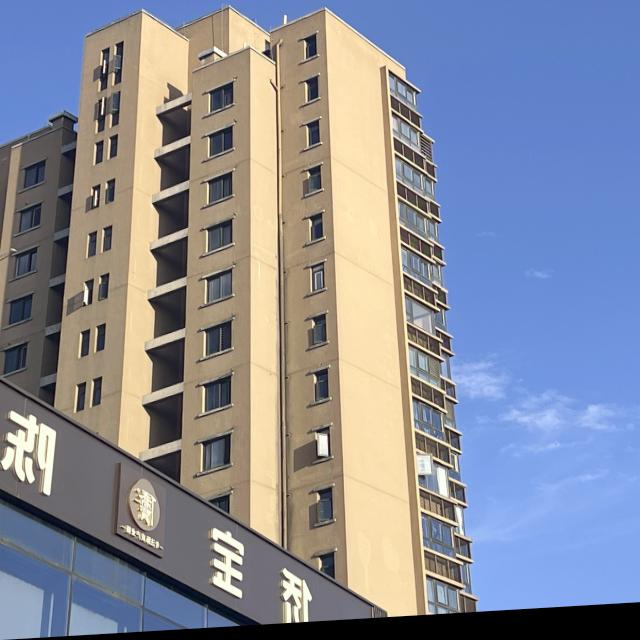damp: (279, 321, 300, 552)
